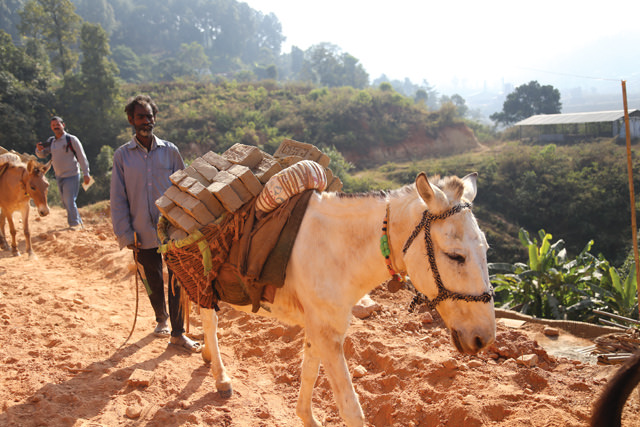equine: (171, 125, 525, 427)
human: (104, 86, 194, 355), (29, 111, 103, 242)
